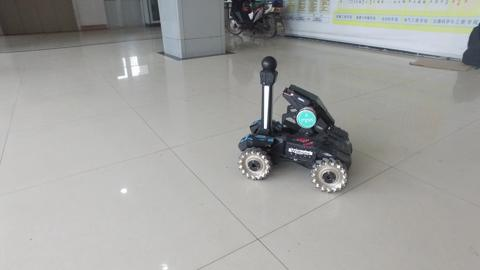chariot: (235, 54, 353, 194)
